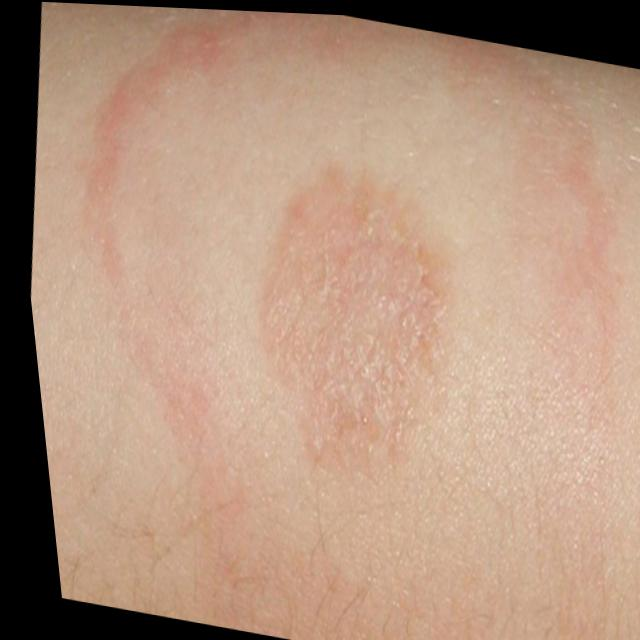Erythema migrans: (7, 0, 640, 640)
